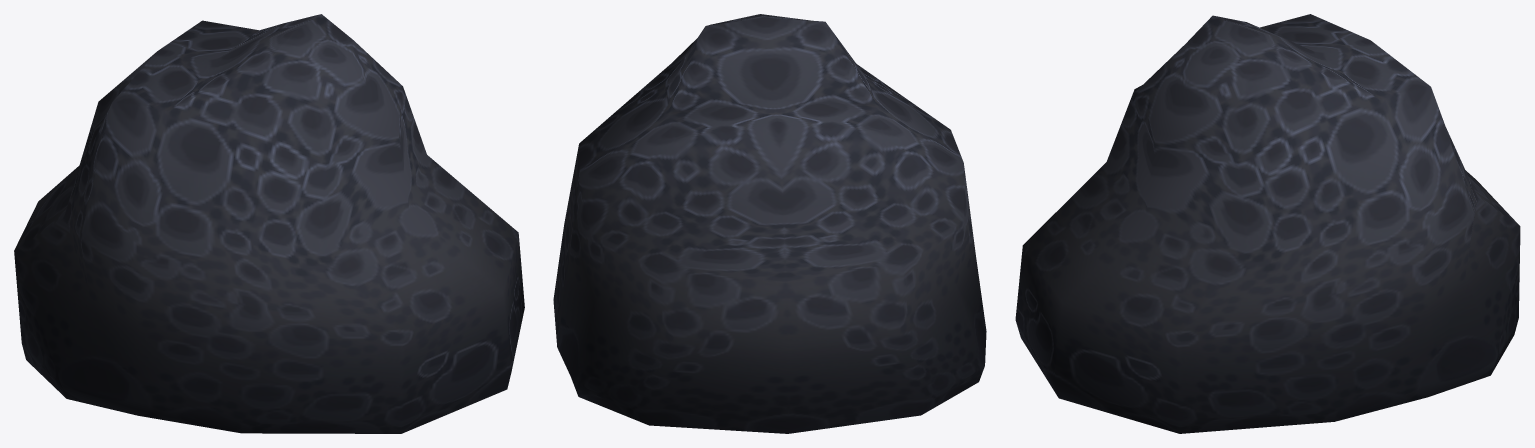
File: Rock_02e.FBX
The picture shows the model from 3 angles, left to right: view 1: azimuth 30°, elevation 25°; view 2: azimuth 150°, elevation 25°; view 3: azimuth 270°, elevation 25°; orthographic projection. The views are drawn at different scales.
Visible parts, largest first — view 1: Rock_02e; view 2: Rock_02e; view 3: Rock_02e.
Part boxes in pixels (box(x1,y1,x2,y2)): Rock_02e: box(14, 14, 524, 433); Rock_02e: box(553, 14, 986, 433); Rock_02e: box(1015, 14, 1520, 433).
Bounding box in the file's own units: 41.76 × 29.67 × 43.57.
